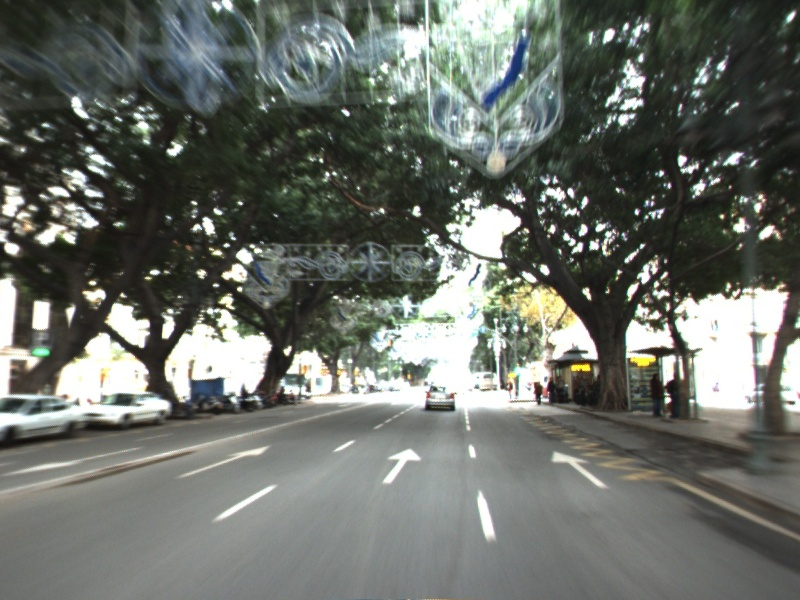STRAIGHT: (172, 443, 274, 481), (549, 448, 613, 492), (380, 446, 424, 486)
